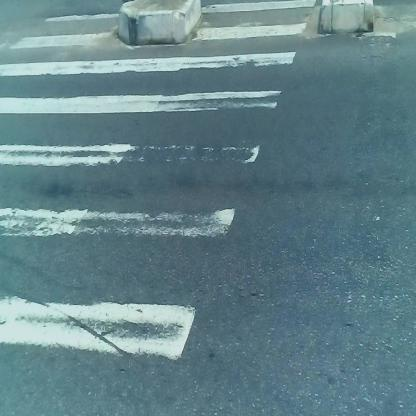crosswalk: (1, 2, 319, 393)
